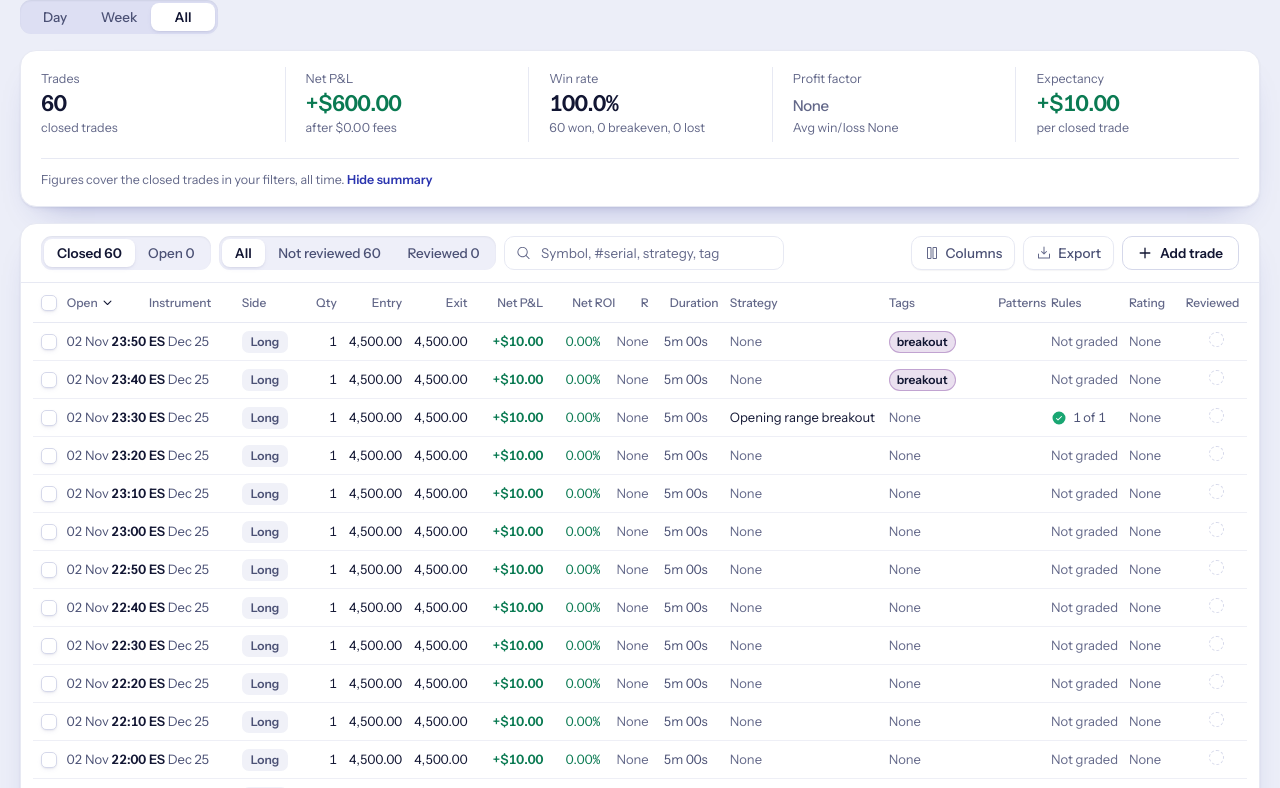
Test: three selected rows show the bar; the header box selects the page
Click the checkbox named "Select trade 60": (49, 342) x1=41 y1=334 x2=57 y2=350
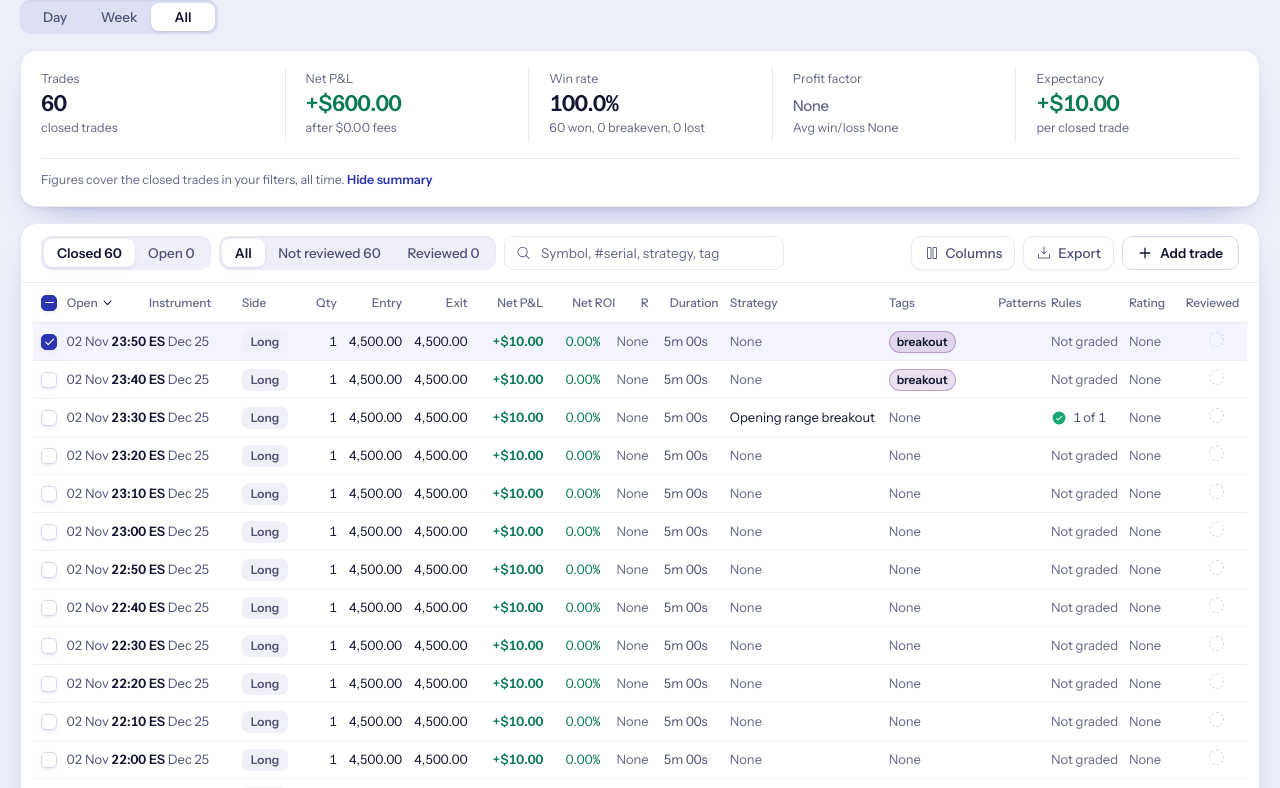
Click the checkbox named "Select trade 59": (49, 380) x1=41 y1=372 x2=57 y2=388
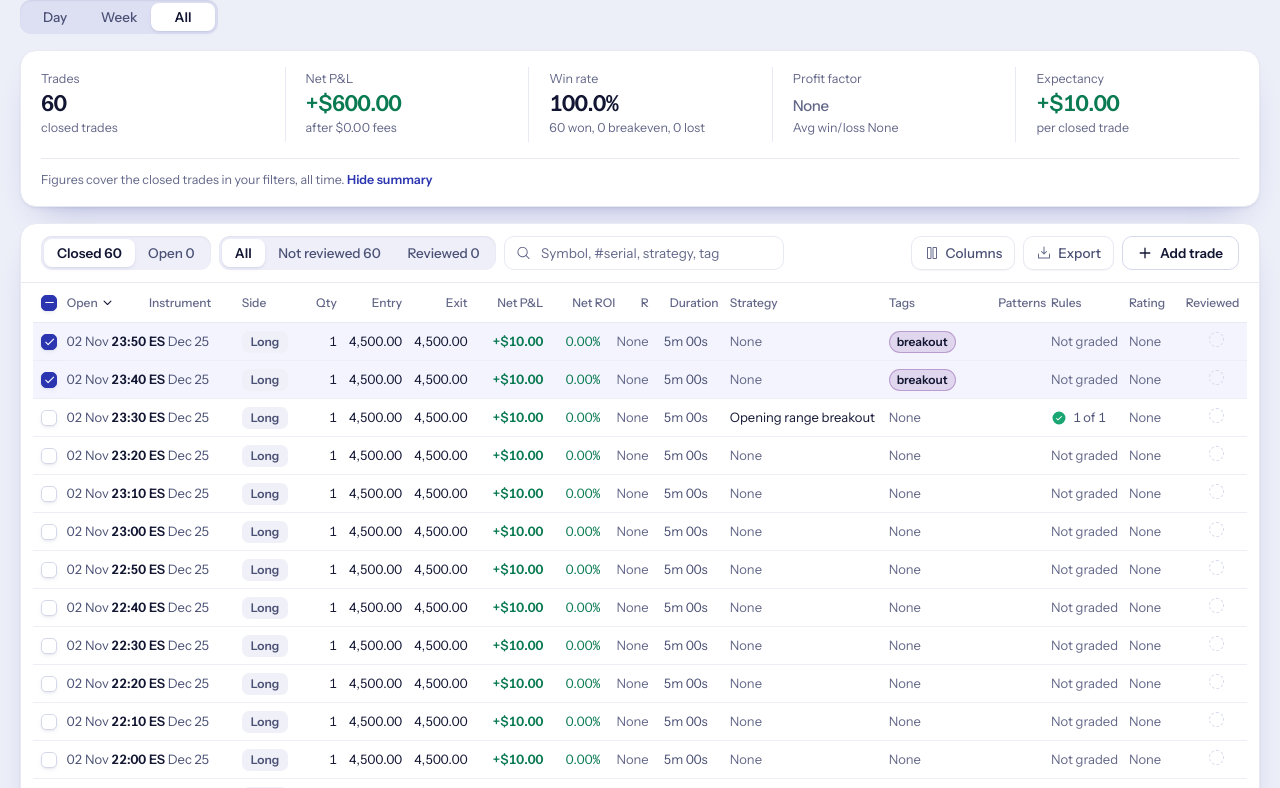
Click the checkbox named "Select trade 58": (49, 418) x1=41 y1=410 x2=57 y2=426
(page scrolled)
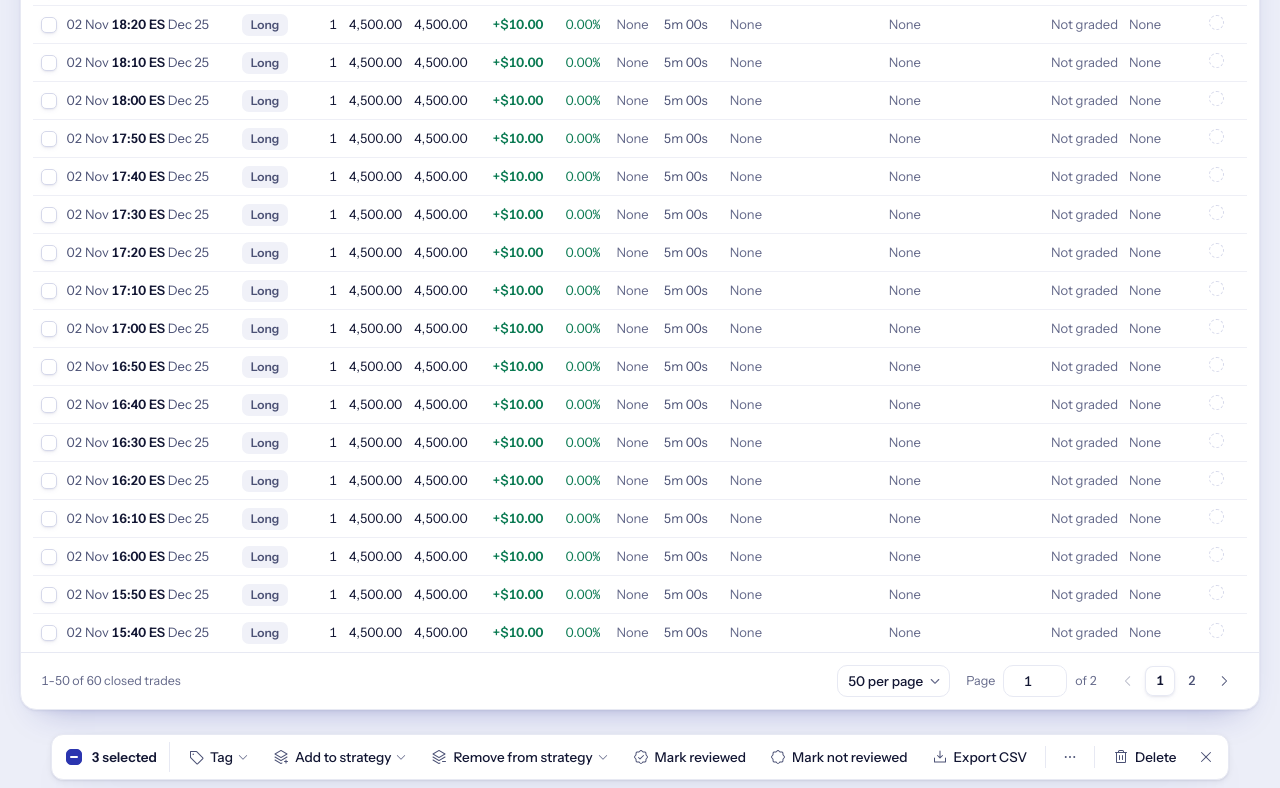
Now the element named "3 selected trades" shows "3 selected", box x1=50 y1=734 x2=1230 y2=780
Click the button named "Clear selection": (1206, 757) x1=1190 y1=741 x2=1222 y2=773
(page scrolled)
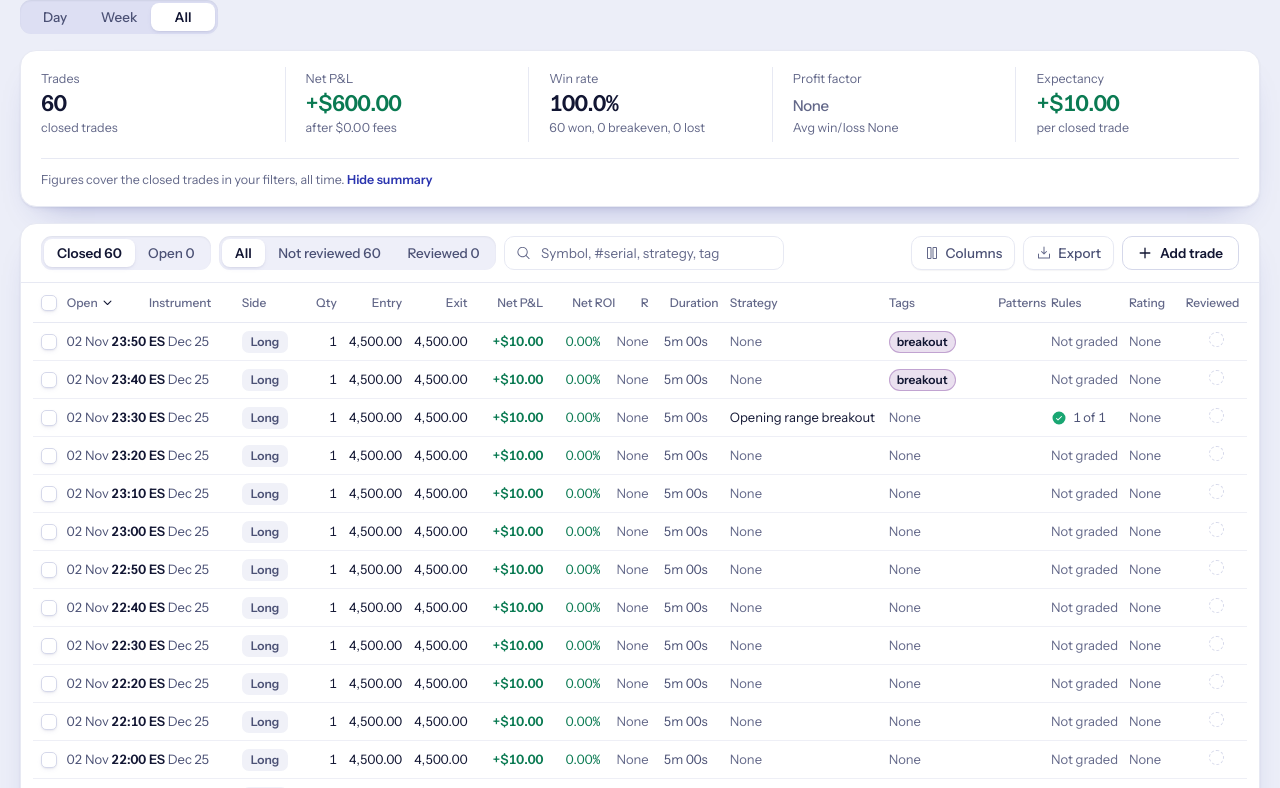
Click the checkbox named "Select this page": (49, 303) x1=41 y1=295 x2=57 y2=311
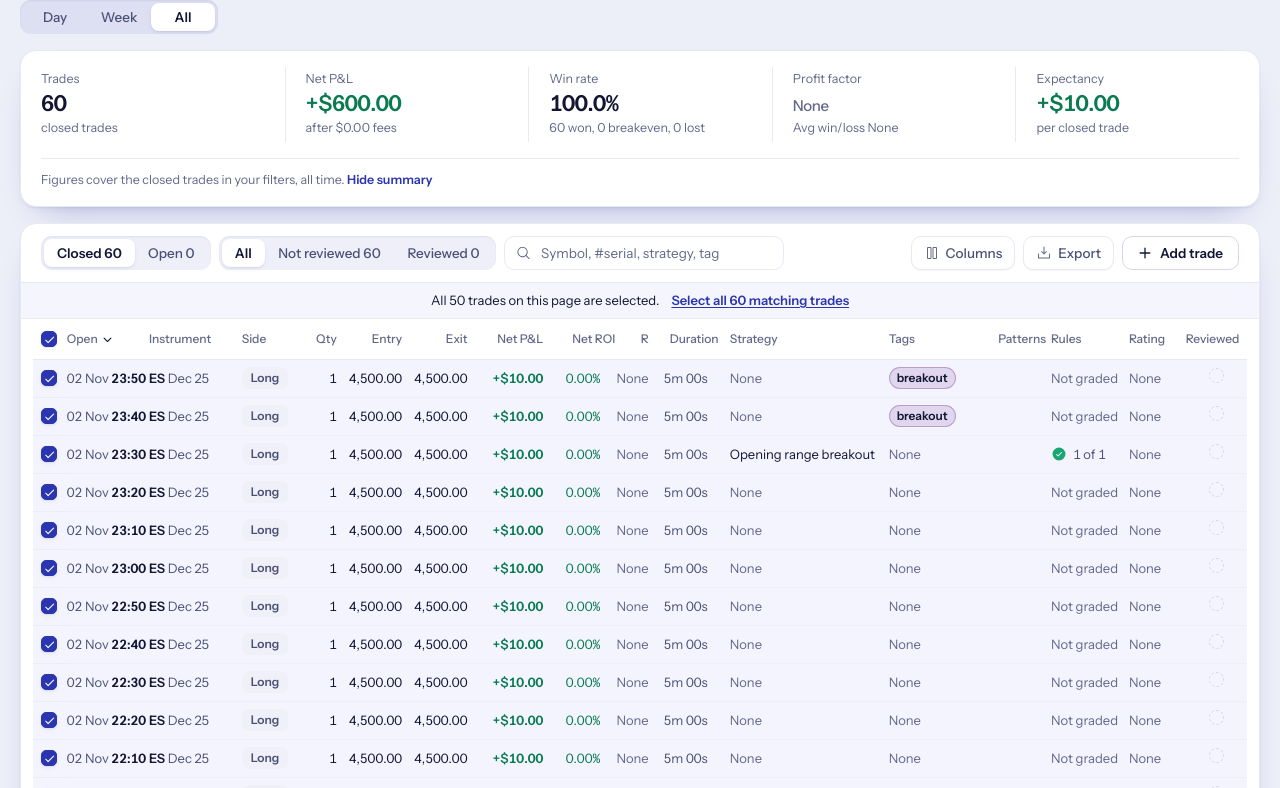
Click the button "Select all 60 matching trades": (760, 301) x1=671 y1=291 x2=849 y2=310
(page scrolled)
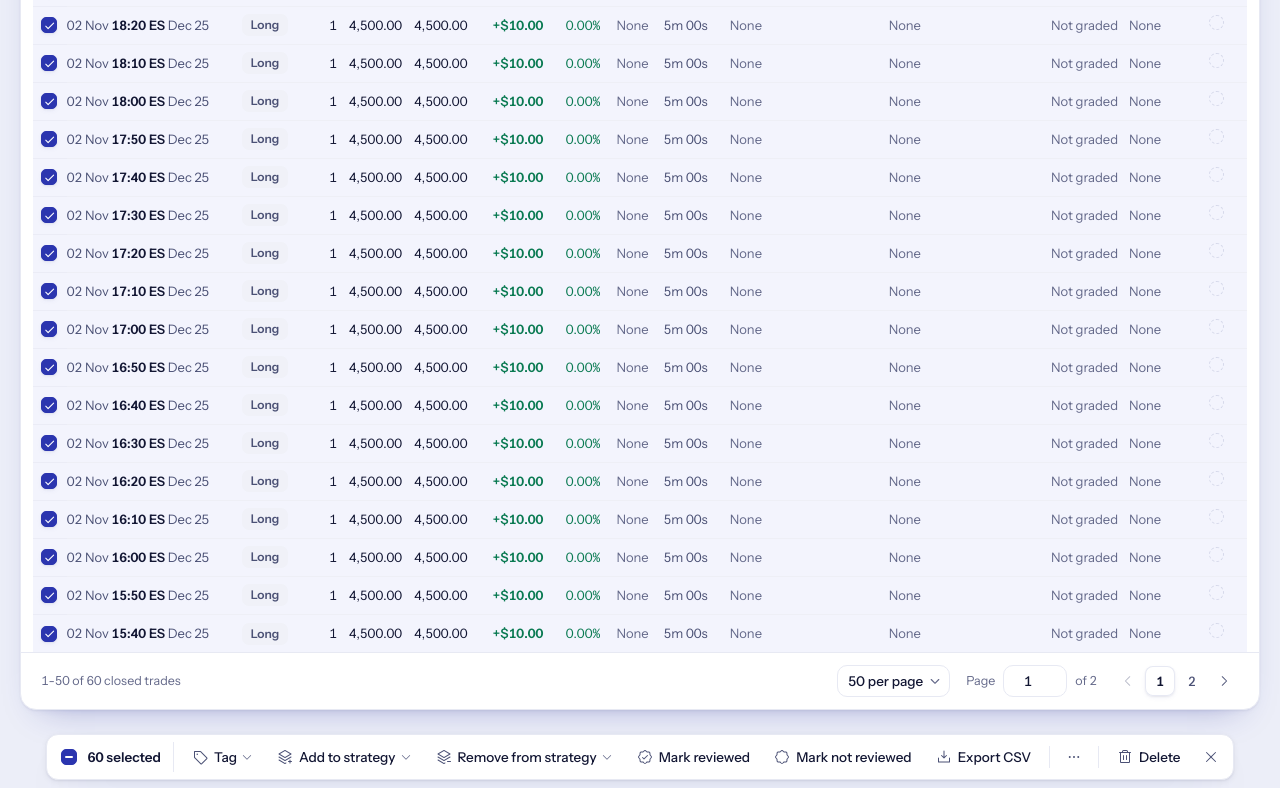
Now the element named "60 selected trades" shows "60 selected", box x1=46 y1=734 x2=1234 y2=780
